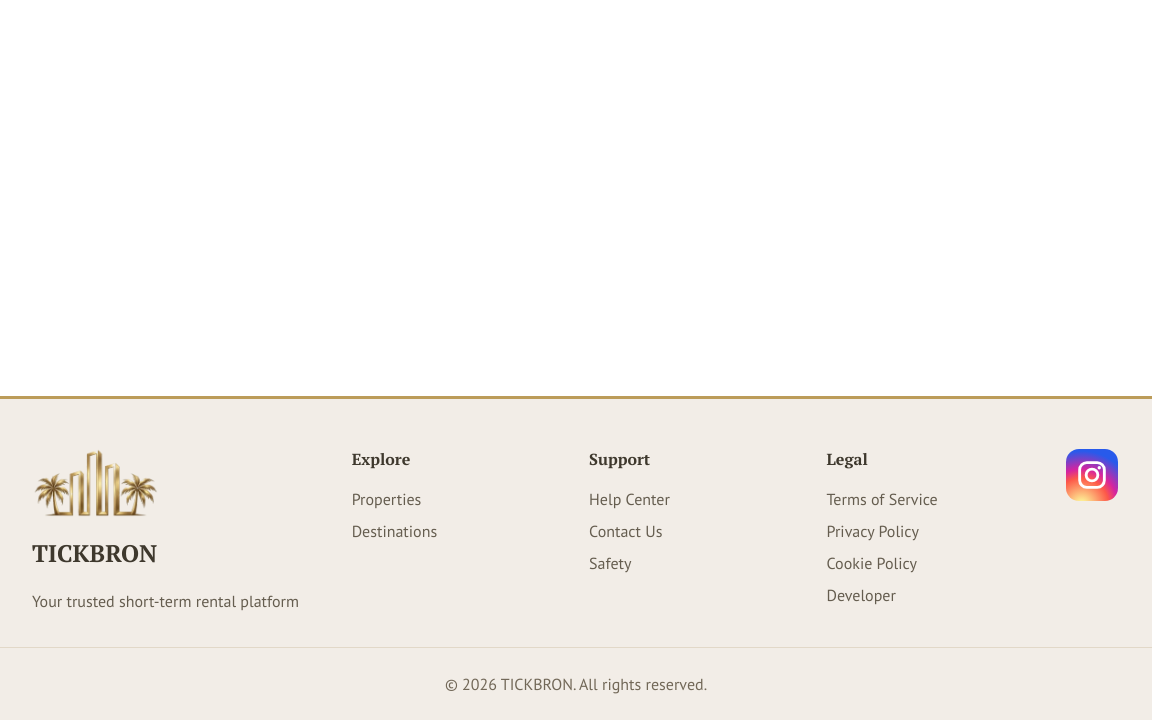
Footer social links › opens the developer contacts with Telegram and Instagram links
Click the button with aria-label "Contact the developer" at (861, 594), box [826, 582, 896, 606]
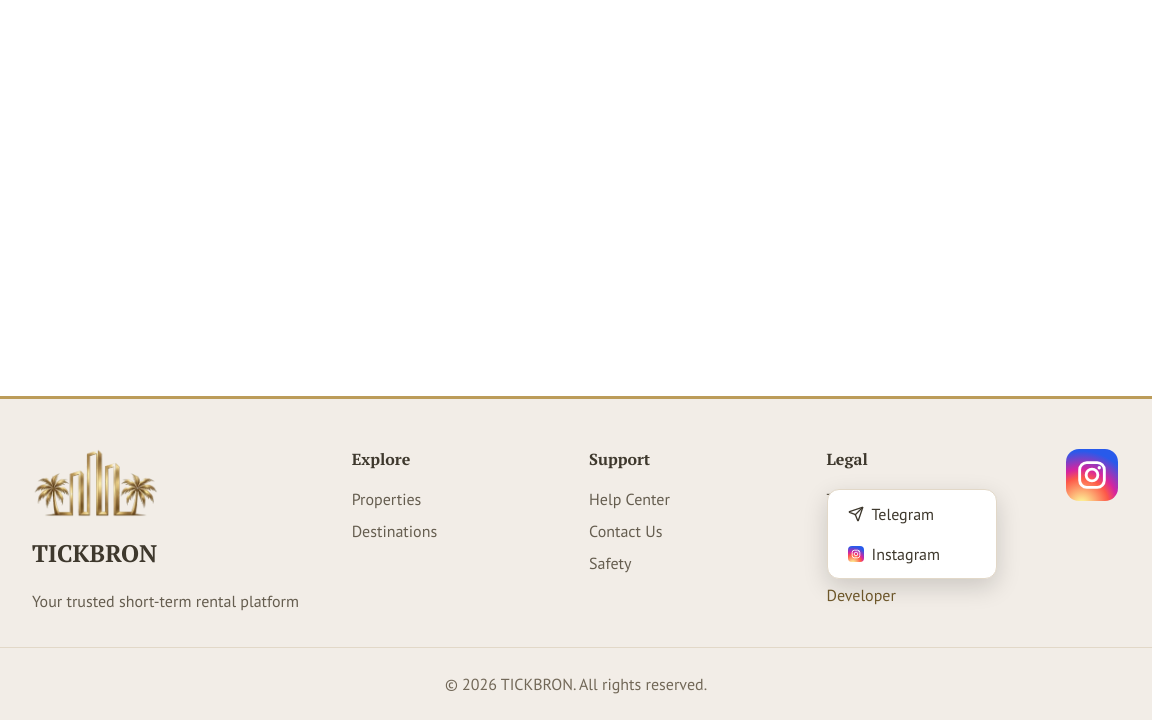
Now the button with aria-label "Contact the developer" is expanded, box [826, 582, 896, 606]
